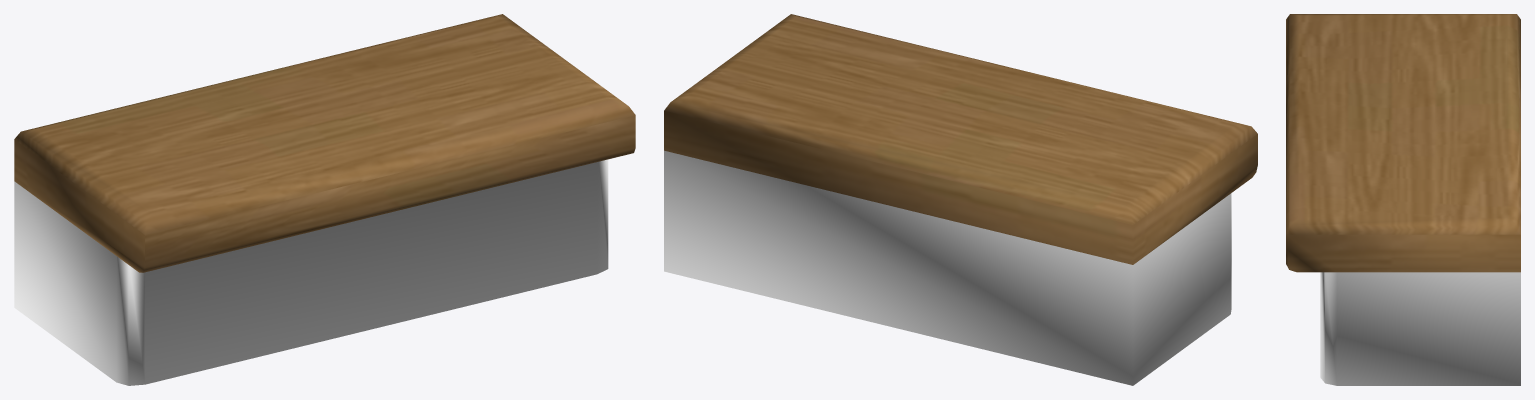
Rendered from SM_Prop_Counter Large.fbx.
3 views of the same model, side by side, from view 1: azimuth 30°, elevation 25°; view 2: azimuth 150°, elevation 25°; view 3: azimuth 270°, elevation 25° (orthographic). The views are drawn at different scales.
Visible parts, largest first — view 1: SM_Prop_Counter Large; view 2: SM_Prop_Counter Large; view 3: SM_Prop_Counter Large.
Part boxes in pixels (left/top/right/bottom): SM_Prop_Counter Large: left=14, top=14, right=635, bottom=385; SM_Prop_Counter Large: left=664, top=14, right=1257, bottom=385; SM_Prop_Counter Large: left=1286, top=14, right=1520, bottom=385.
Size of the model in its own units: 4.33 by 1.52 by 1.99.
